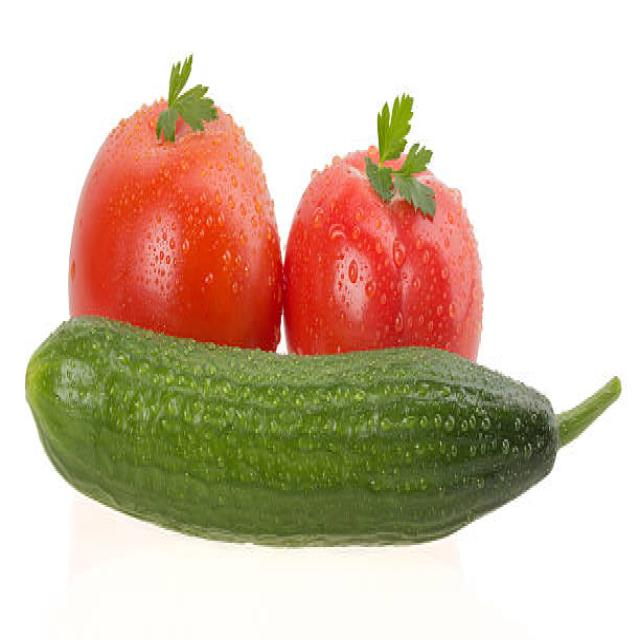cucumber: (27, 313, 556, 550)
